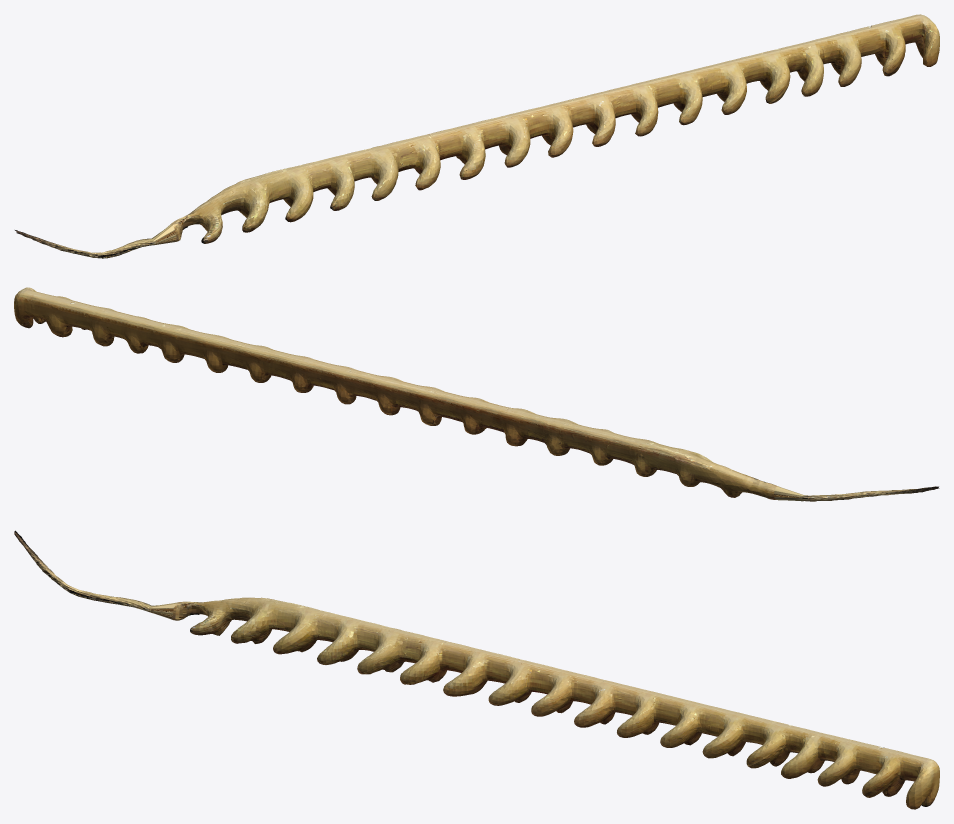
3 renders of one model, top to bottom at view 1: azimuth 30°, elevation 25°; view 2: azimuth 150°, elevation 25°; view 3: azimuth 330°, elevation 25°, orthographic.
Parts seen in each view (by area): view 1: world; view 2: world; view 3: world.
Boxes of the visible parts, box(x1,y1,x2,y2) form: world: box(15, 14, 939, 258); world: box(14, 287, 939, 501); world: box(14, 530, 939, 809).
Bounding box in the file's own units: 0.9991 × 0.0607 × 0.0596.
Materials: 1 (1 with a texture image).
